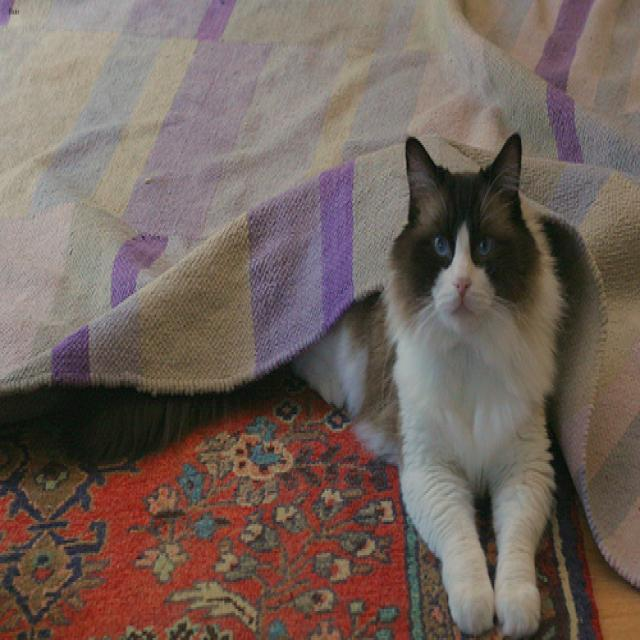Ragdoll: (403, 131, 520, 332)
